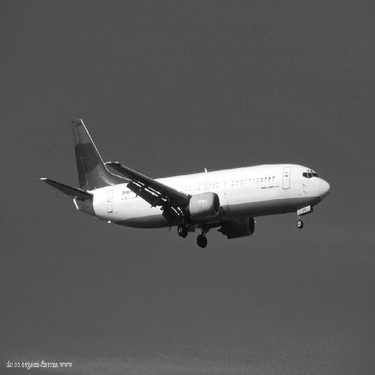airplane: (36, 115, 339, 251)
